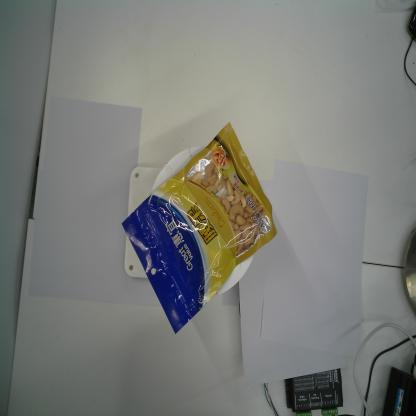Dried Fruit: (121, 121, 277, 334)
